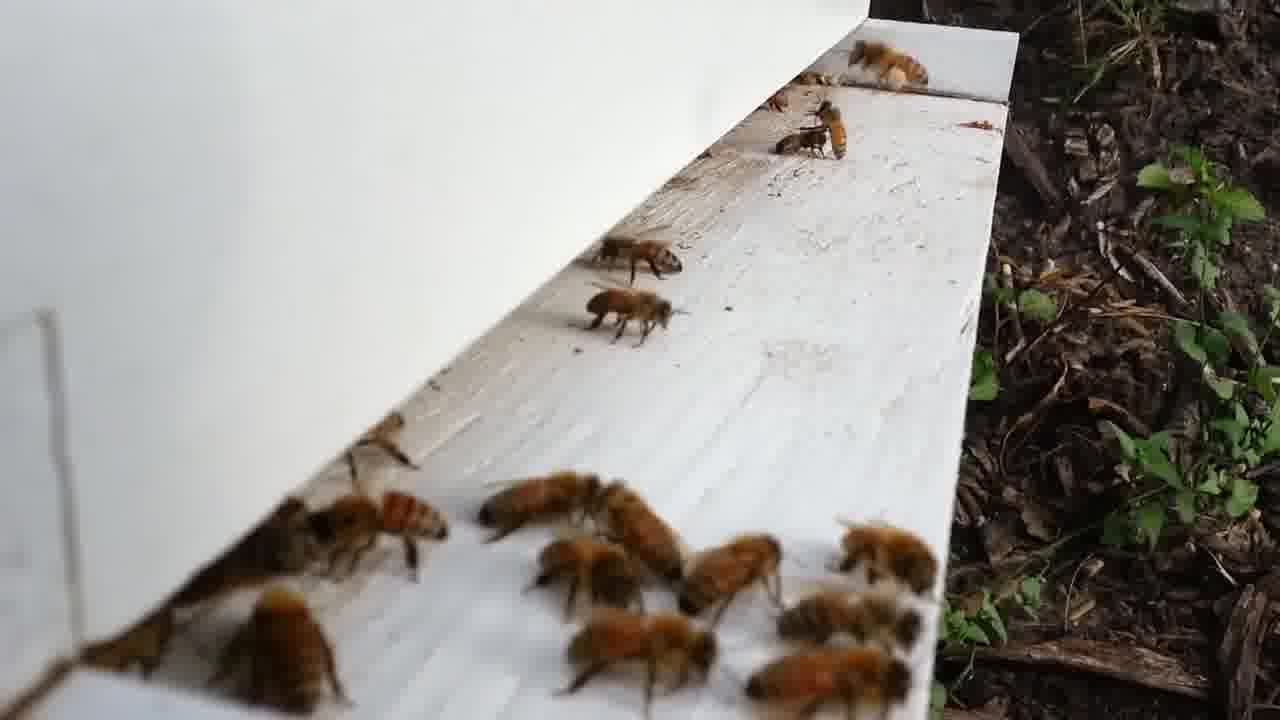pollen: (847, 36, 929, 96)
